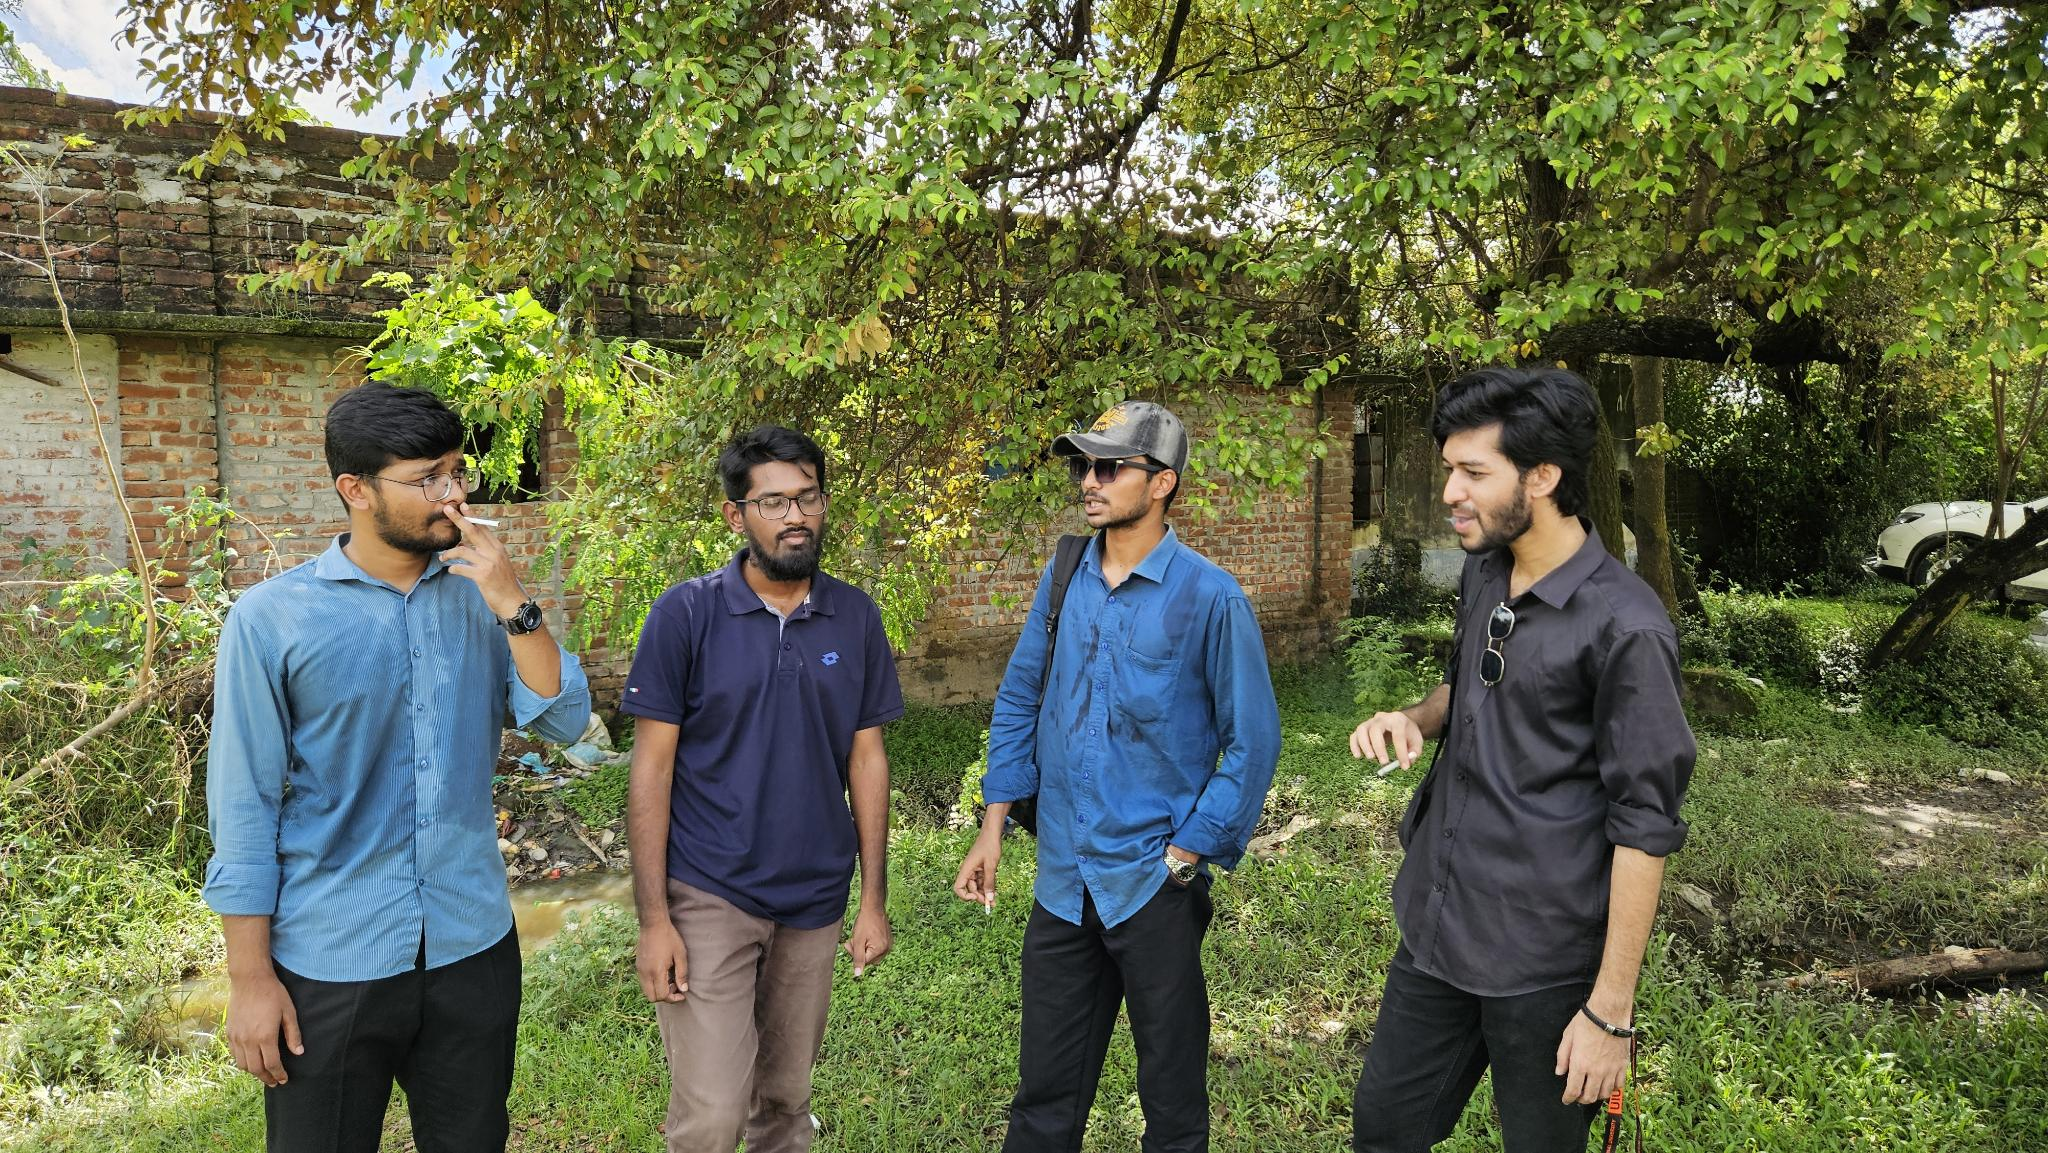cigarette: (1374, 748, 1418, 778), (461, 513, 502, 529), (983, 896, 993, 917)
nonSmoker: (630, 426, 900, 1153)
smoker: (203, 388, 594, 1153), (1350, 366, 1698, 1153), (949, 399, 1281, 1153)
